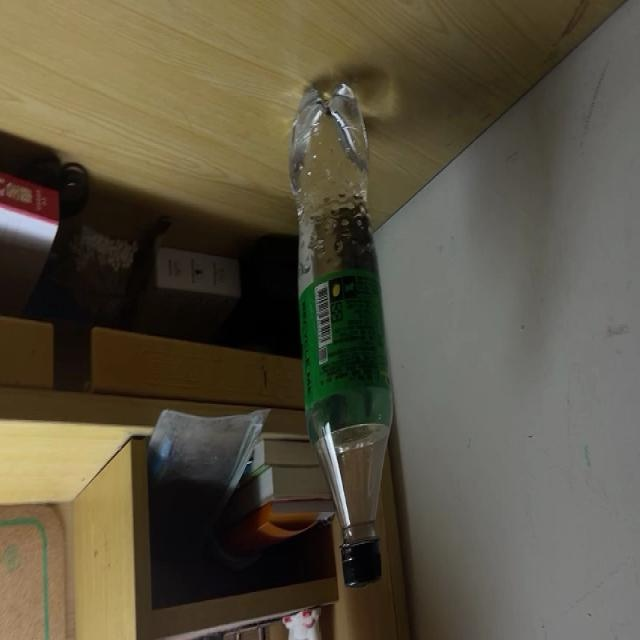Sprite: (288, 83, 396, 586)
